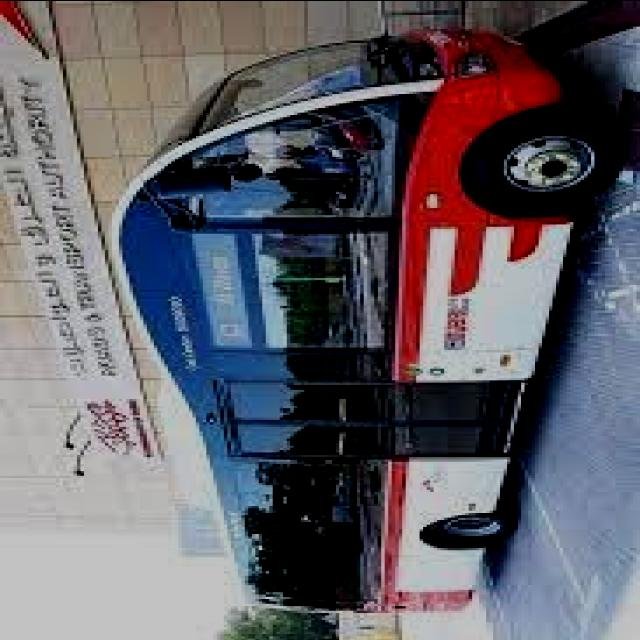bus: (94, 21, 624, 606)
